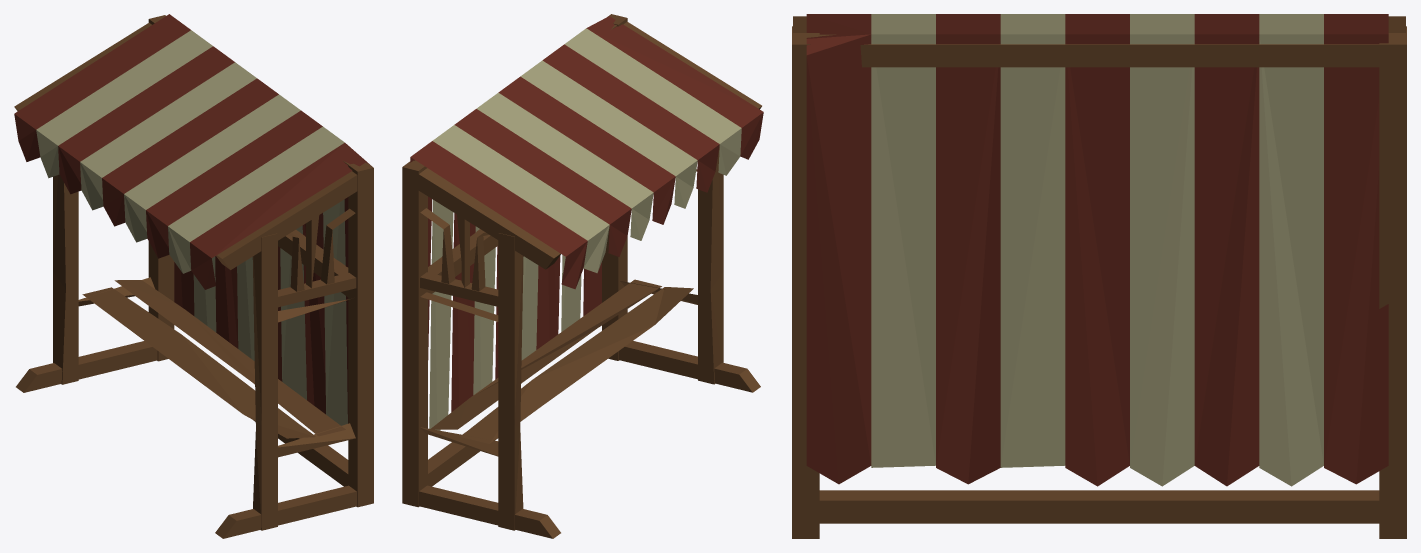
The model's file is MarketStand_2.glb.
3 renders of one model, left to right at view 1: azimuth 30°, elevation 25°; view 2: azimuth 150°, elevation 25°; view 3: azimuth 270°, elevation 25°, orthographic. The views are drawn at different scales.
Visible parts, largest first — view 1: MarketStand_2; view 2: MarketStand_2; view 3: MarketStand_2.
Part boxes in pixels (x1=…): MarketStand_2: x1=14, y1=14, x2=373, y2=538; MarketStand_2: x1=402, y1=14, x2=763, y2=538; MarketStand_2: x1=792, y1=14, x2=1406, y2=538.
Size of the model in its own units: 0.5172 by 1.04 by 1.15.
